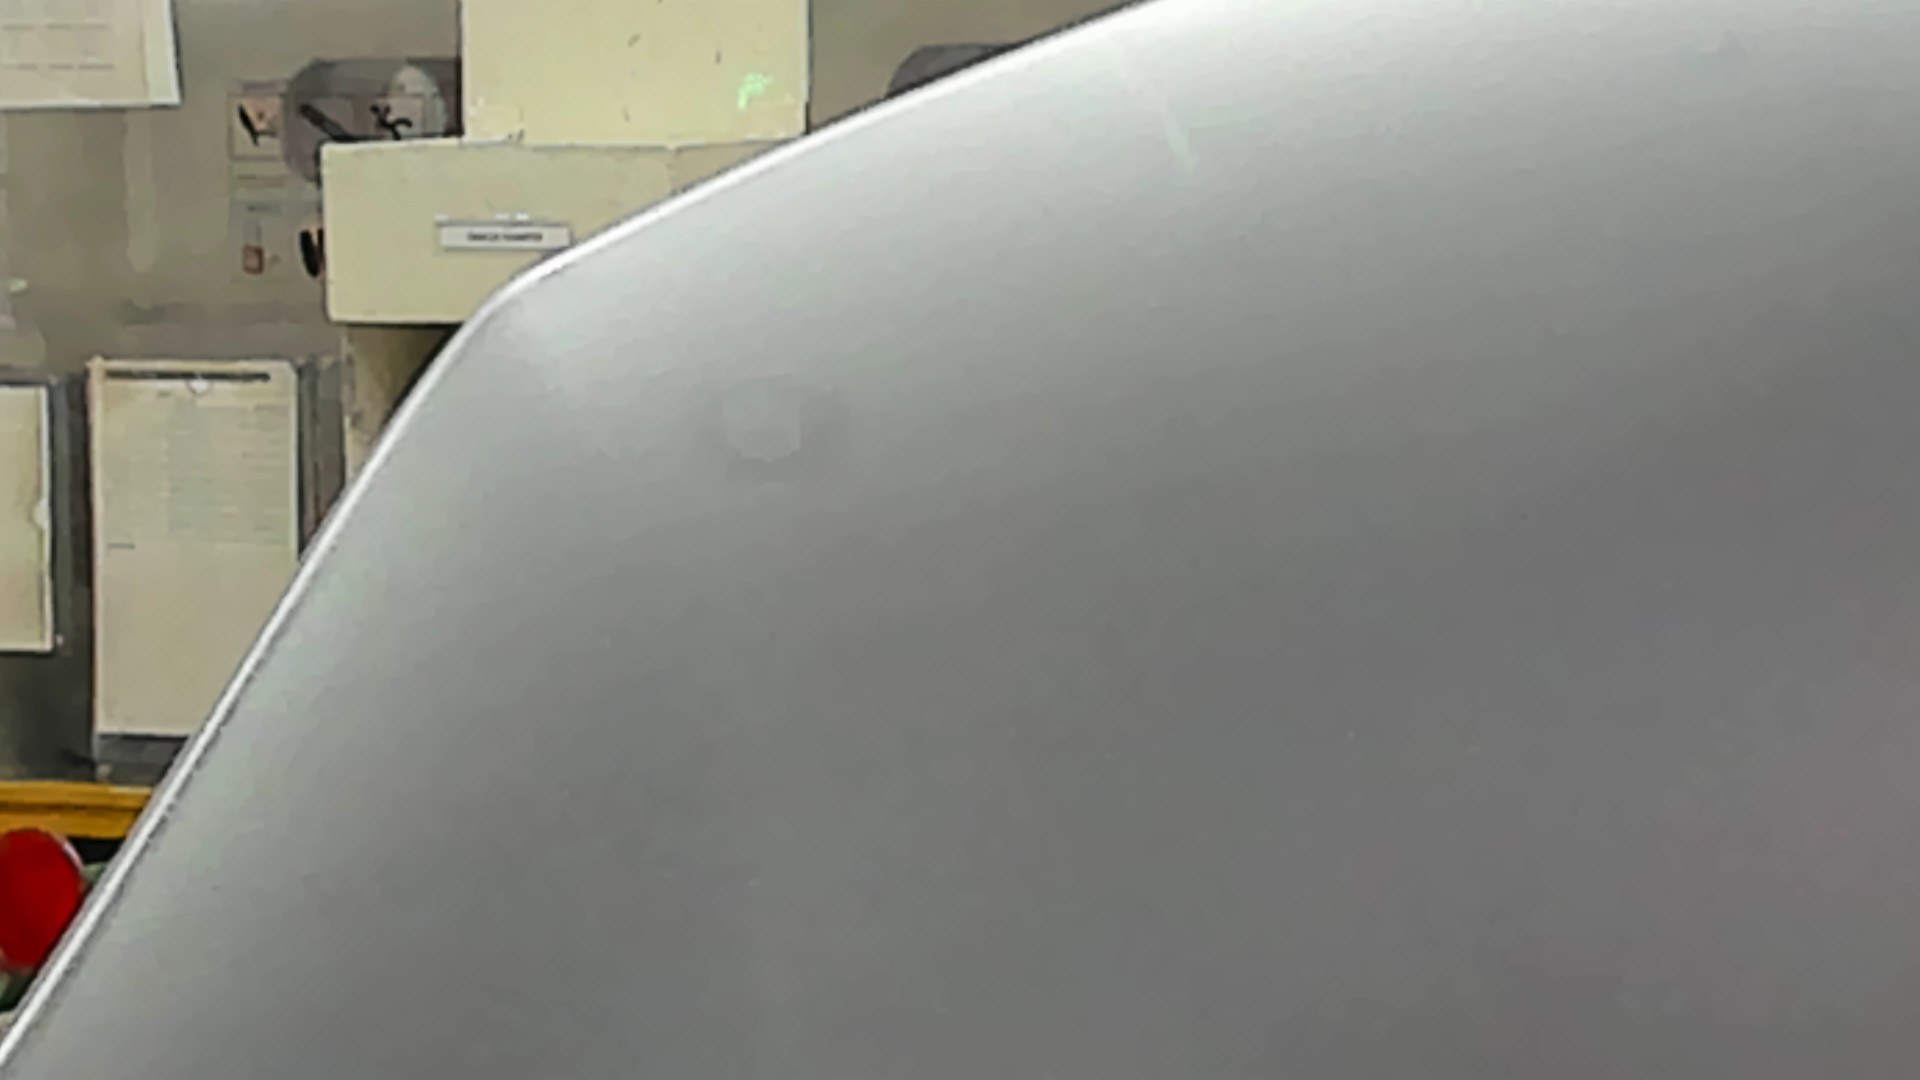capo: (665, 233, 1920, 1080)
